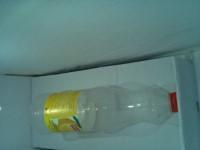bottle: (28, 83, 180, 138)
